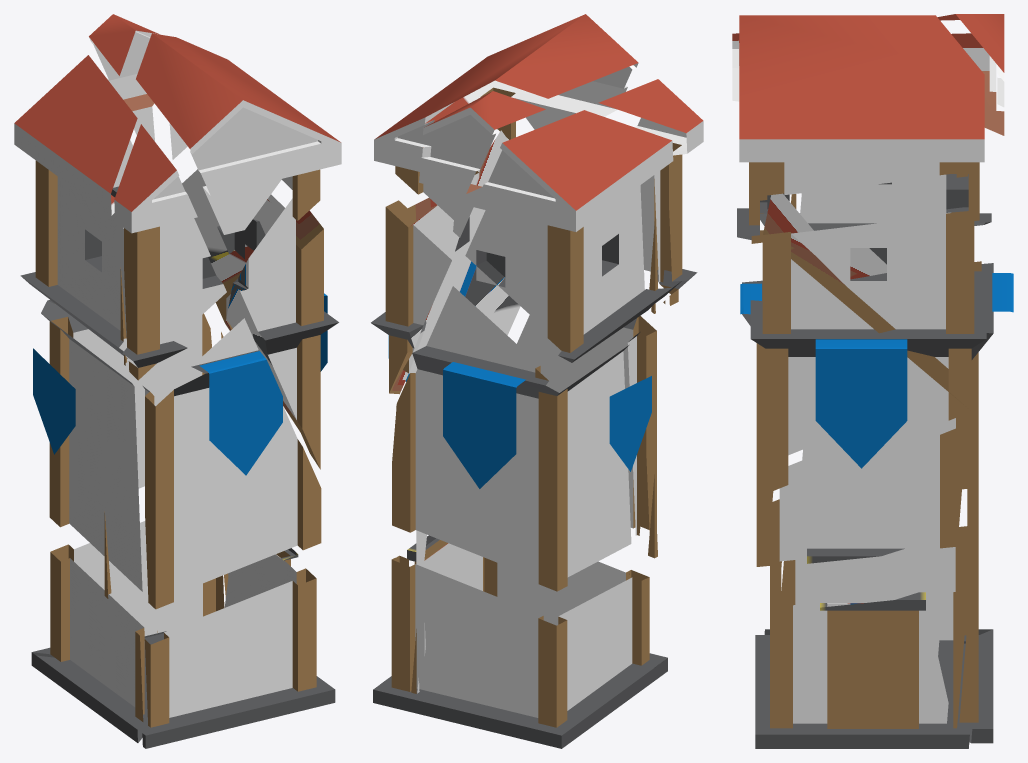
The model's file is Tower_Destroyed.fbx.
The picture shows the model from 3 angles, left to right: view 1: azimuth 30°, elevation 25°; view 2: azimuth 150°, elevation 25°; view 3: azimuth 270°, elevation 25°; orthographic projection. The views are drawn at different scales.
Visible parts, largest first — view 1: polySurface7, polySurface5, polySurface11, polySurface13, polySurface3, polySurface9, polySurface1, polySurface17, polySurface23, polySurface15, polySurface21; view 2: polySurface3, polySurface11, polySurface1, polySurface13, polySurface9, polySurface5, polySurface17, polySurface7, polySurface19, polySurface15, polySurface21, polySurface26; view 3: polySurface13, polySurface9, polySurface5, polySurface7, polySurface1, polySurface25, polySurface11, polySurface3, polySurface15, polySurface17, polySurface19, polySurface23.
Boxes of the visible parts, <box> form: polySurface7: <box>143,318,321,609</box>; polySurface5: <box>37,548,335,748</box>; polySurface11: <box>14,55,137,365</box>; polySurface13: <box>136,33,341,259</box>; polySurface3: <box>41,300,211,591</box>; polySurface9: <box>182,169,338,469</box>; polySurface1: <box>31,521,224,742</box>; polySurface17: <box>114,124,226,380</box>; polySurface23: <box>199,351,282,475</box>; polySurface15: <box>89,14,159,141</box>; polySurface21: <box>33,348,75,454</box>; polySurface3: <box>392,286,631,591</box>; polySurface11: <box>465,110,681,362</box>; polySurface1: <box>373,558,667,748</box>; polySurface13: <box>374,14,638,219</box>; polySurface9: <box>371,130,520,394</box>; polySurface5: <box>381,535,667,735</box>; polySurface17: <box>598,79,703,305</box>; polySurface7: <box>396,315,656,567</box>; polySurface19: <box>443,362,525,488</box>; polySurface15: <box>419,91,545,237</box>; polySurface21: <box>609,376,651,471</box>; polySurface26: <box>411,300,665,693</box>; polySurface13: <box>739,15,984,209</box>; polySurface9: <box>750,193,986,493</box>; polySurface5: <box>755,561,969,748</box>; polySurface7: <box>742,280,962,654</box>; polySurface1: <box>764,526,993,743</box>; polySurface25: <box>815,339,907,468</box>; polySurface11: <box>760,33,996,230</box>; polySurface3: <box>802,261,993,547</box>; polySurface15: <box>937,14,1004,135</box>; polySurface17: <box>732,33,768,243</box>; polySurface19: <box>992,273,1013,312</box>; polySurface23: <box>740,283,761,314</box>.
Size of the model in its own units: 3.22 by 8.2 by 3.07.
Materials: 1 (1 with a texture image).
